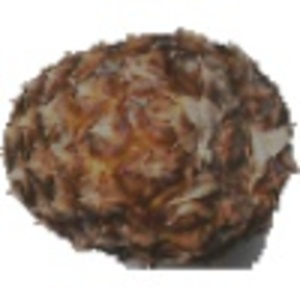abacaxi: (3, 24, 297, 264)
